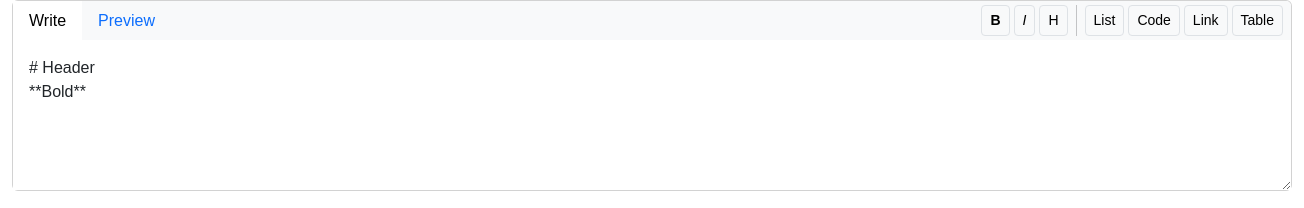
Test: MarkdownEditor › switches to preview mode and renders markdown
Note: Click Preview tab
Click the link with class "nav-link" showing "Preview": (126, 20) x1=98 y1=12 x2=155 y2=29
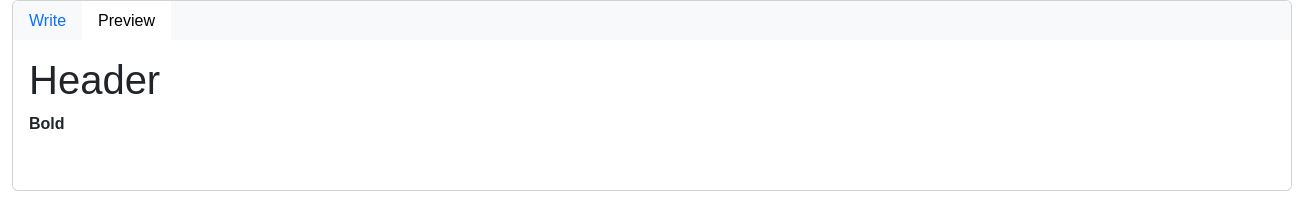
Expected: the element with class "markdown-preview" is shown
